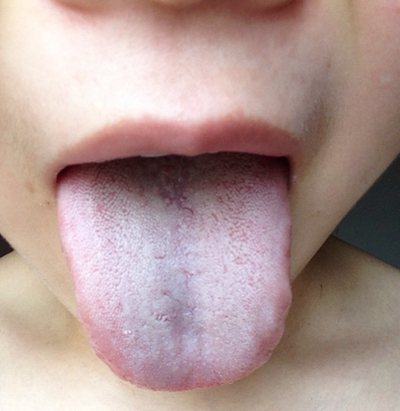baitaishe: (57, 156, 292, 391)
